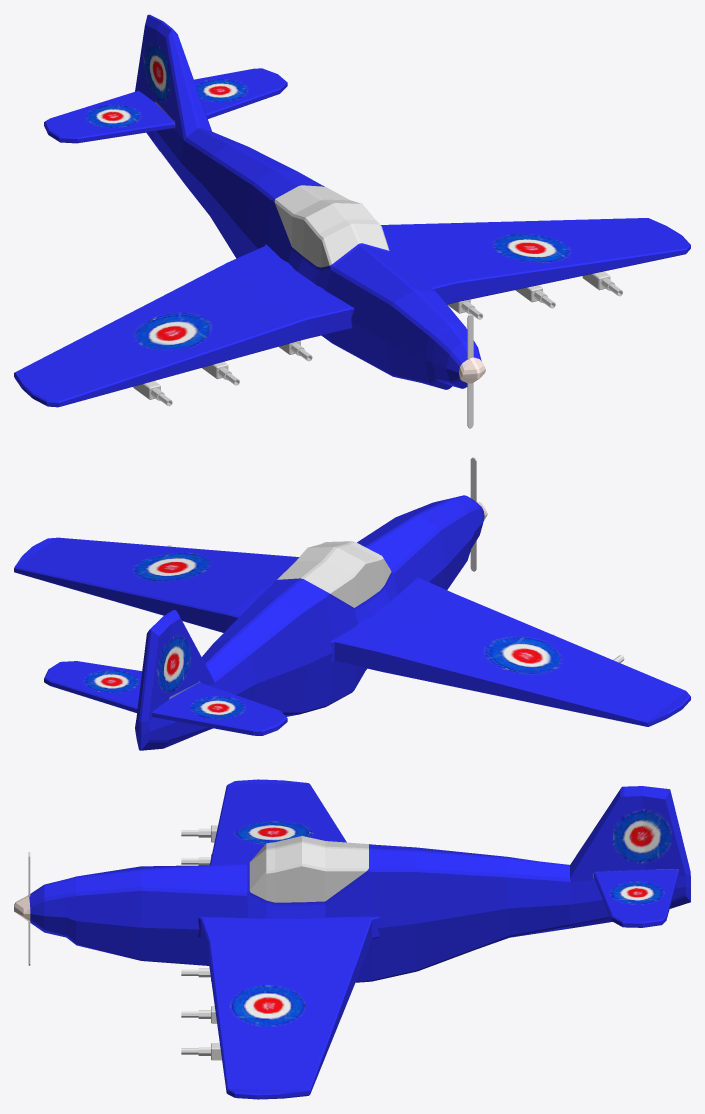
3 views of the same model, one above another, from view 1: azimuth 30°, elevation 25°; view 2: azimuth 150°, elevation 25°; view 3: azimuth 270°, elevation 25° (orthographic).
Visible parts, largest first — view 1: Plane, Guns.001, Guns; view 2: Plane, Cube; view 3: Plane, Guns.001, Guns.
Part boxes in pixels (<box>): Plane: <box>14,14,690,407</box>; Guns.001: <box>447,271,622,319</box>; Guns: <box>133,340,312,406</box>; Plane: <box>14,495,690,750</box>; Cube: <box>470,457,476,571</box>; Plane: <box>14,779,690,1099</box>; Guns.001: <box>181,968,221,1060</box>; Guns: <box>181,825,217,865</box>.
Bounding box in the file's own units: 307 × 87.89 × 279.
Materials: 3 (1 with a texture image).
